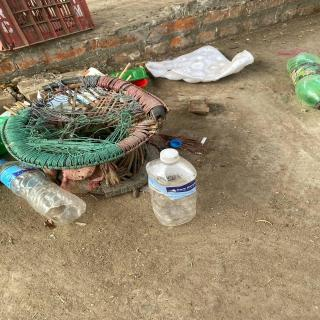Plastic-bottle: (1, 153, 88, 229), (142, 146, 203, 230)
